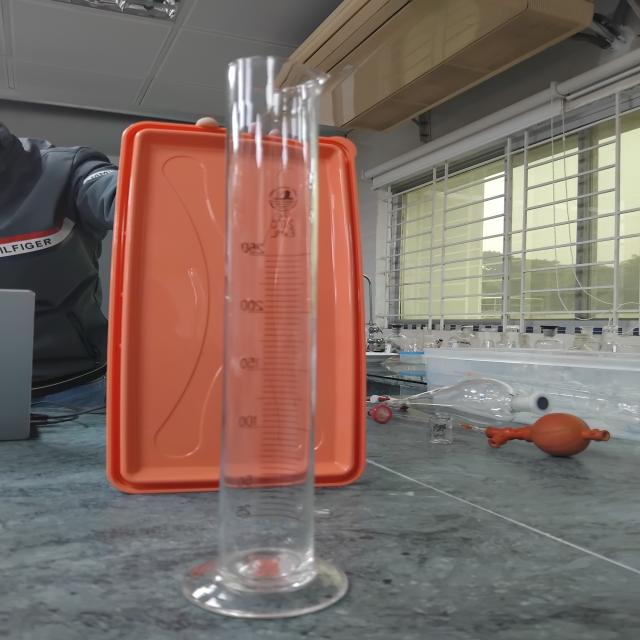Measuring_Cylinder: (176, 27, 406, 636)
